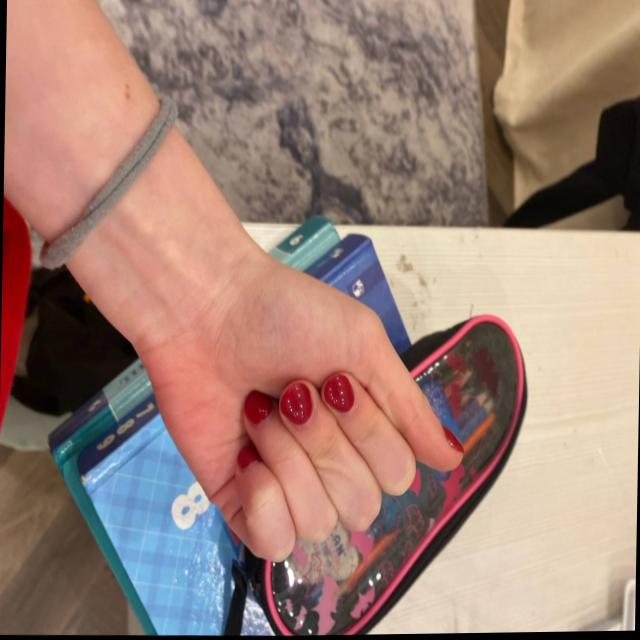a: (174, 272, 467, 562)
